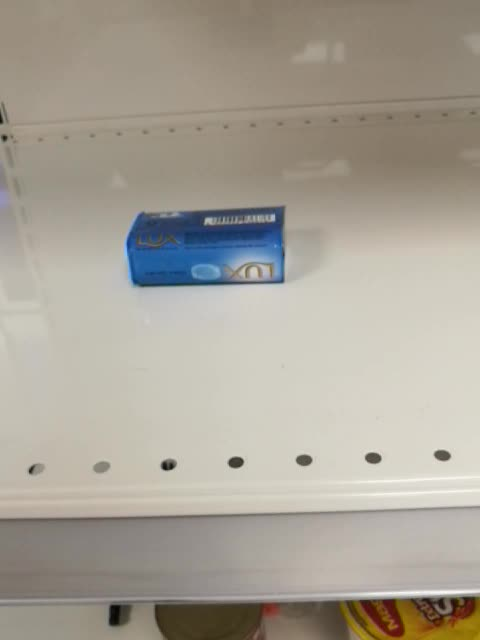soap: (124, 204, 294, 287)
